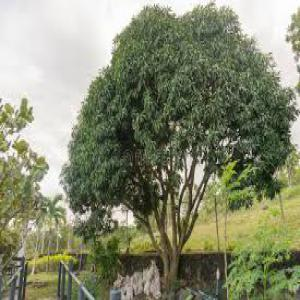Tree: (61, 0, 295, 279)
